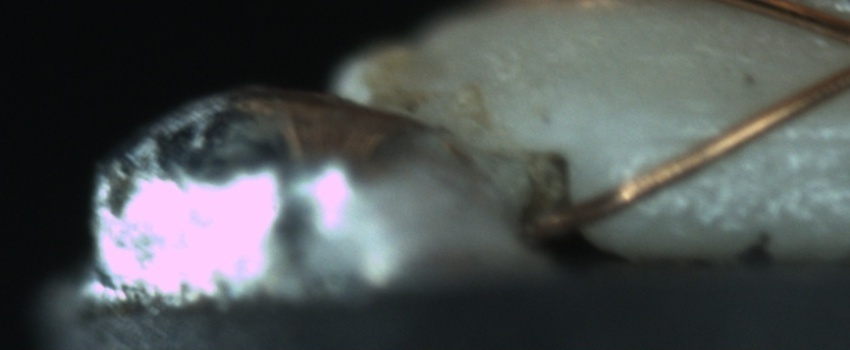DL: (635, 105, 850, 175)
